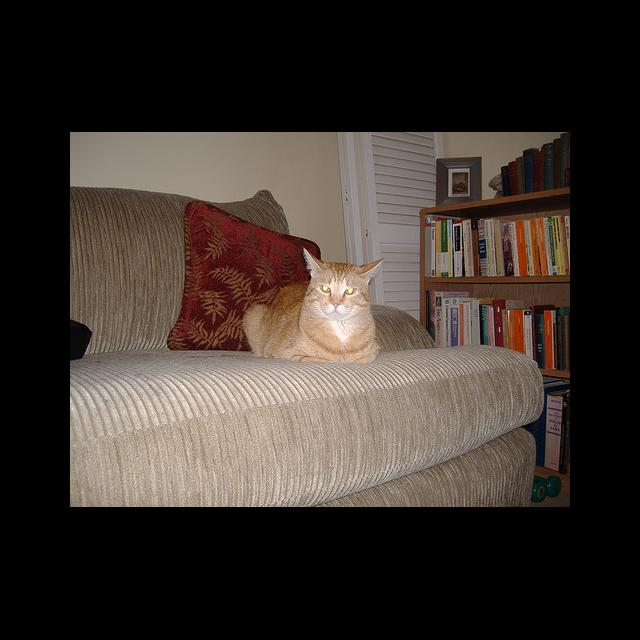animals: (304, 248, 383, 308)
